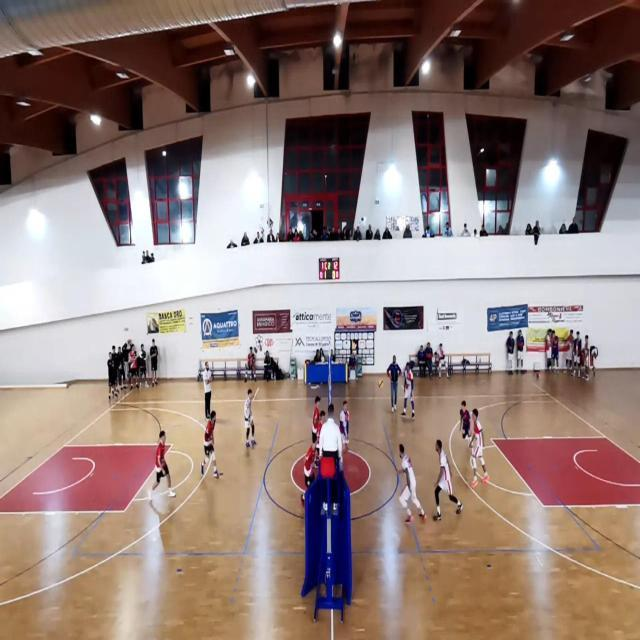volleyball: (378, 379, 384, 390)
